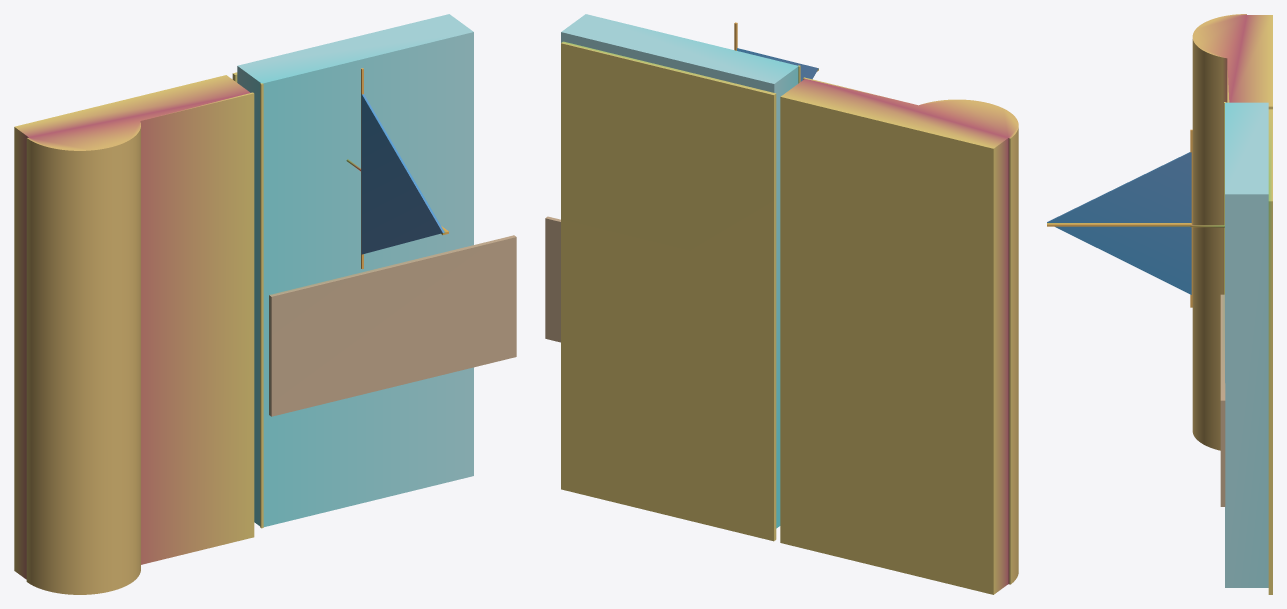
The picture shows the model from 3 angles, left to right: view 1: azimuth 30°, elevation 25°; view 2: azimuth 150°, elevation 25°; view 3: azimuth 270°, elevation 25°; orthographic projection. The views are drawn at different scales.
Parts seen in each view (by area): view 1: rounded_gold, blue_slab, cross_flap, triangle_sheet, edge_strip; view 2: rounded_gold, front_skin, blue_slab, cross_flap; view 3: blue_slab, rounded_gold, triangle_sheet, front_skin, cross_flap, fold_edge, gold_spine.
Boxes of the visible parts, x1,y1,x2,y2 form: rounded_gold: (14, 75, 254, 594); blue_slab: (237, 14, 473, 526); cross_flap: (269, 235, 516, 416); triangle_sheet: (361, 94, 444, 254); edge_strip: (260, 83, 263, 528); rounded_gold: (780, 77, 1018, 594); front_skin: (561, 41, 776, 541); blue_slab: (561, 14, 798, 528); cross_flap: (545, 216, 560, 342); blue_slab: (1225, 102, 1268, 587); rounded_gold: (1192, 14, 1272, 450); triangle_sheet: (1047, 152, 1191, 294); front_skin: (1268, 109, 1272, 594); cross_flap: (1220, 294, 1225, 506); fold_edge: (1047, 223, 1191, 226); gold_spine: (1190, 129, 1192, 307).
Bounding box in the file's own units: 8 × 7.43 × 3.71.
